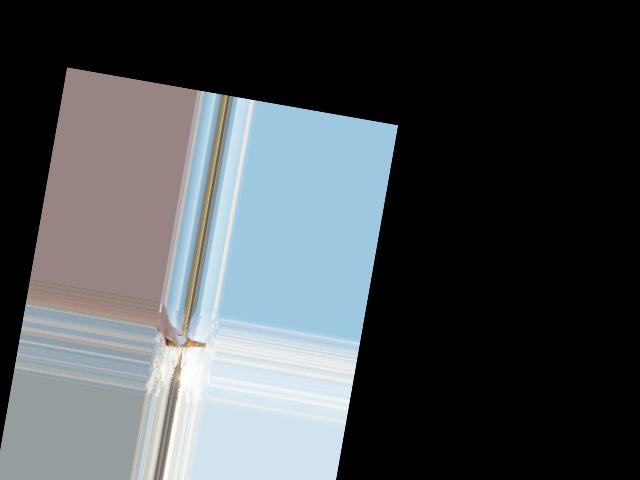beer: (165, 333, 207, 353)
